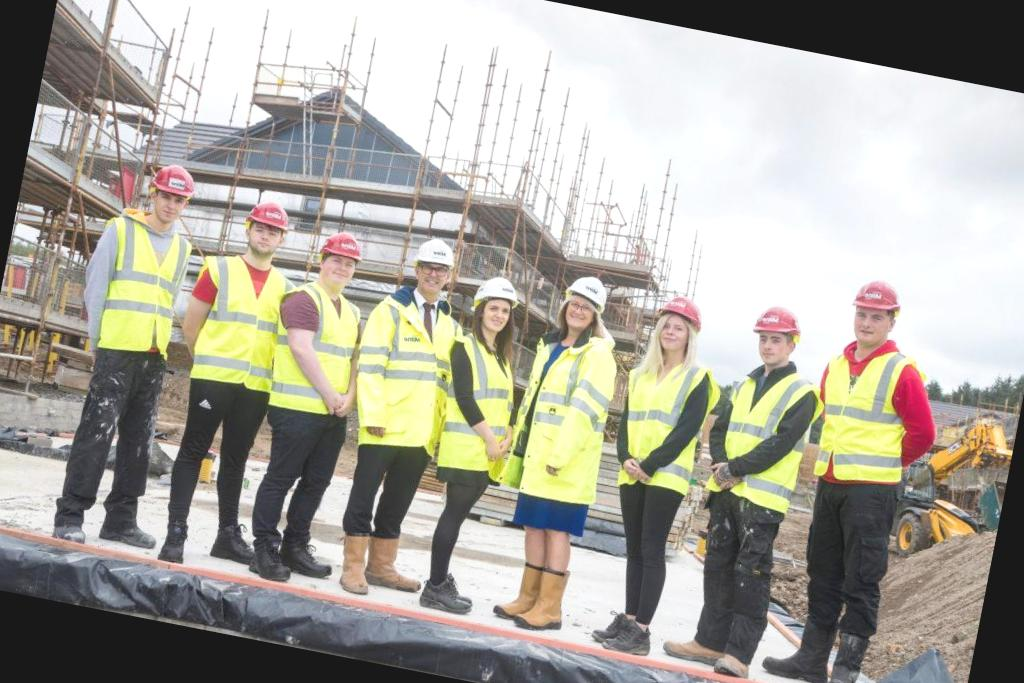helmet: (231, 179, 302, 242), (838, 270, 908, 326), (142, 162, 212, 212), (752, 298, 809, 347), (562, 268, 617, 318), (316, 226, 378, 270), (409, 234, 467, 279), (658, 294, 708, 340), (475, 275, 526, 315)
person: (756, 259, 984, 683), (473, 258, 661, 652), (40, 148, 222, 552), (650, 294, 838, 666), (140, 184, 310, 574), (312, 219, 482, 602), (226, 226, 391, 591), (581, 289, 728, 658), (412, 264, 552, 600)
